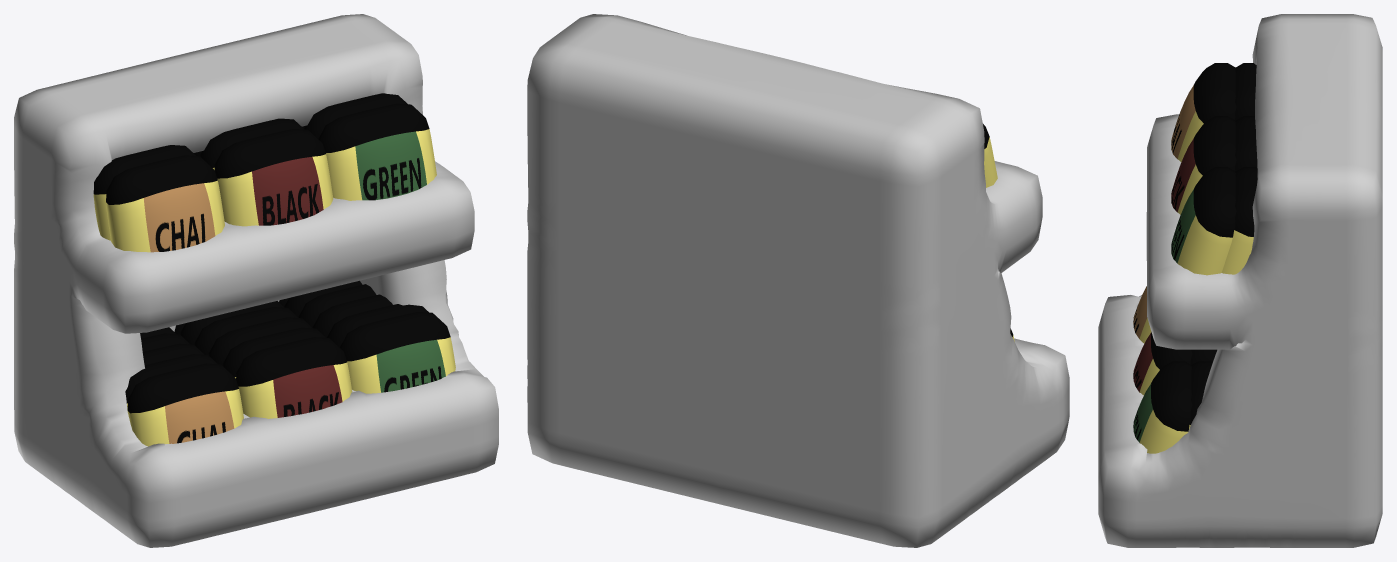
The model's file is Tea Holder.fbx.
The picture shows the model from 3 angles, left to right: view 1: azimuth 30°, elevation 25°; view 2: azimuth 150°, elevation 25°; view 3: azimuth 270°, elevation 25°; orthographic projection. The views are drawn at different scales.
Parts seen in each view (by area): view 1: Tea Holder invert normals; view 2: Tea Holder invert normals; view 3: Tea Holder invert normals.
Boxes of the visible parts, x1,y1,x2,y2 form: Tea Holder invert normals: (14, 14, 498, 547); Tea Holder invert normals: (527, 14, 1069, 547); Tea Holder invert normals: (1098, 14, 1382, 547).
Size of the model in its own units: 38.92 by 38.08 by 26.28.
